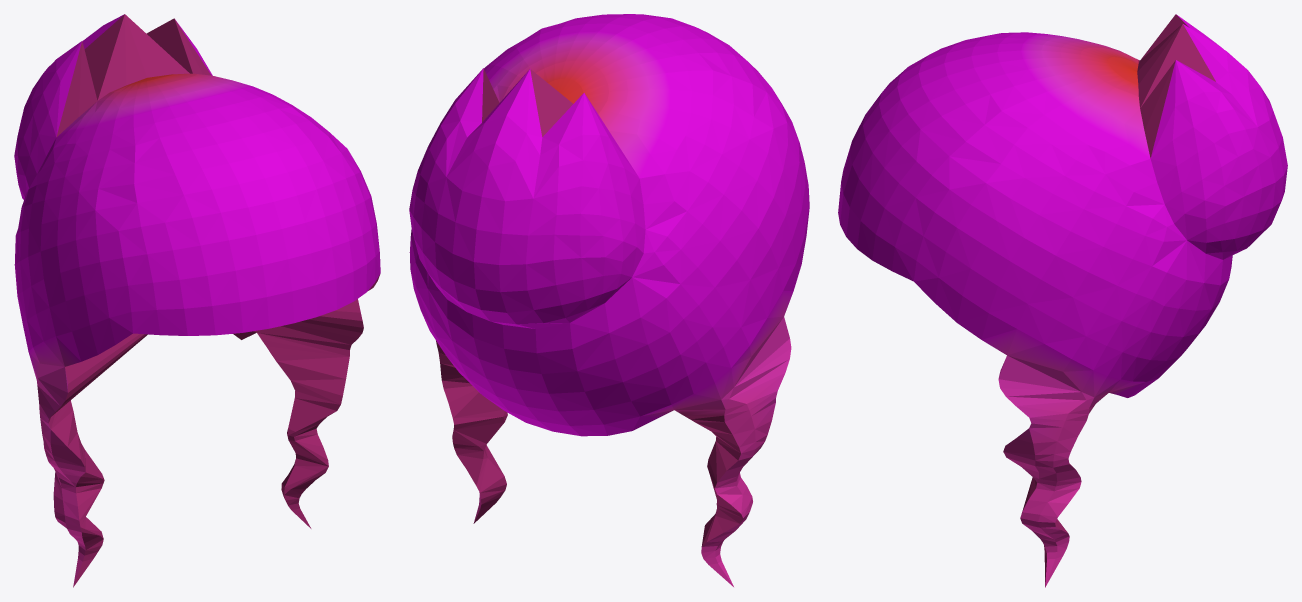
3 renders of one model, left to right at view 1: azimuth 30°, elevation 25°; view 2: azimuth 150°, elevation 25°; view 3: azimuth 270°, elevation 25°, orthographic. The views are drawn at different scales.
Visible parts, largest first — view 1: shape; view 2: shape; view 3: shape.
Boxes of the visible parts, x1,y1,x2,y2 form: shape: (14, 14, 380, 587); shape: (409, 14, 809, 586); shape: (838, 14, 1287, 587).
Size of the model in its own units: 59.24 by 92.43 by 74.62.
